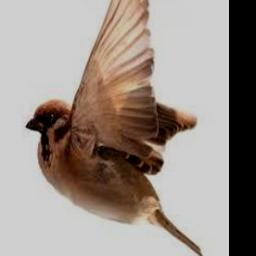Sparrow: (26, 0, 211, 256)
